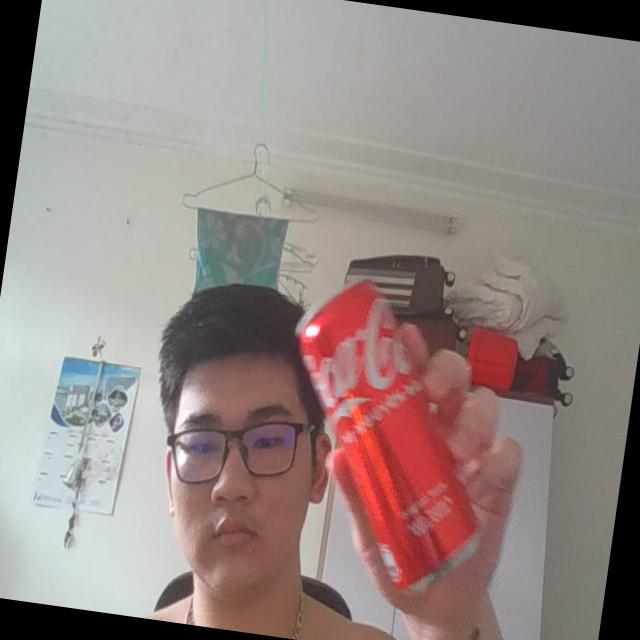Coca Cola: (260, 264, 516, 606)
